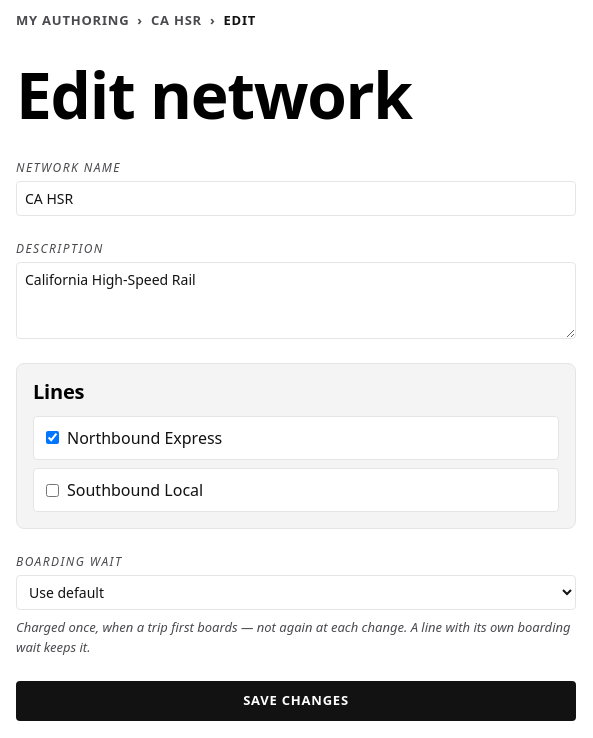
it: ScenarioBuilderView editing an existing scenario › cannot save with every member service removed
Step 1. Click the checkbox with test id "service-checkbox-svc1" → [52, 438], box [46,431,59,444]
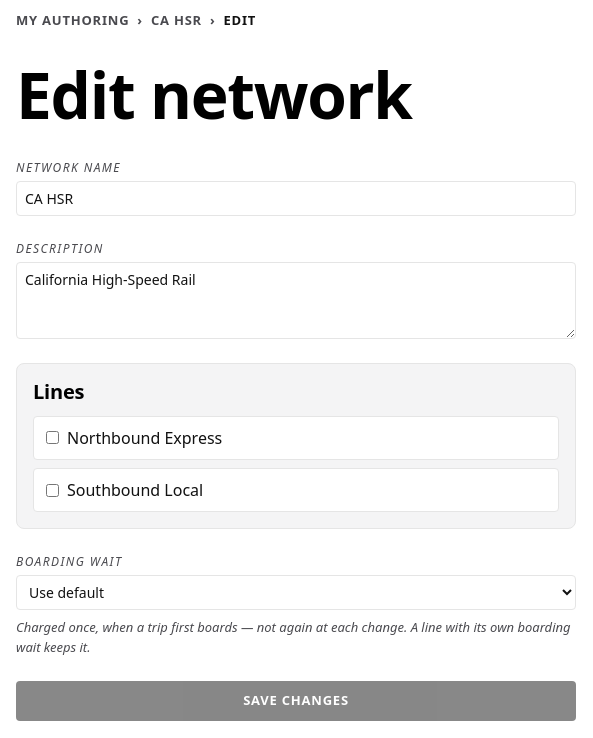
Check: the button with test id "save-scenario" is disabled, box [16,681,576,721]
